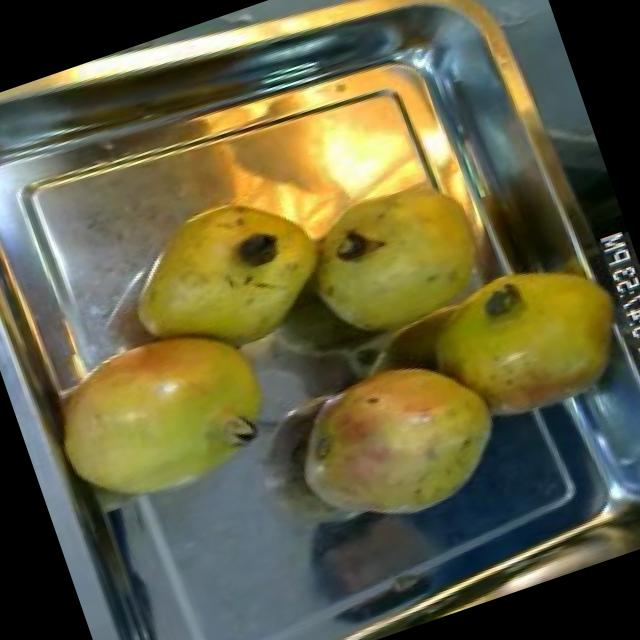fruit: (20, 290, 306, 544), (260, 322, 530, 556), (97, 162, 364, 392), (277, 146, 514, 362), (417, 235, 640, 445)
